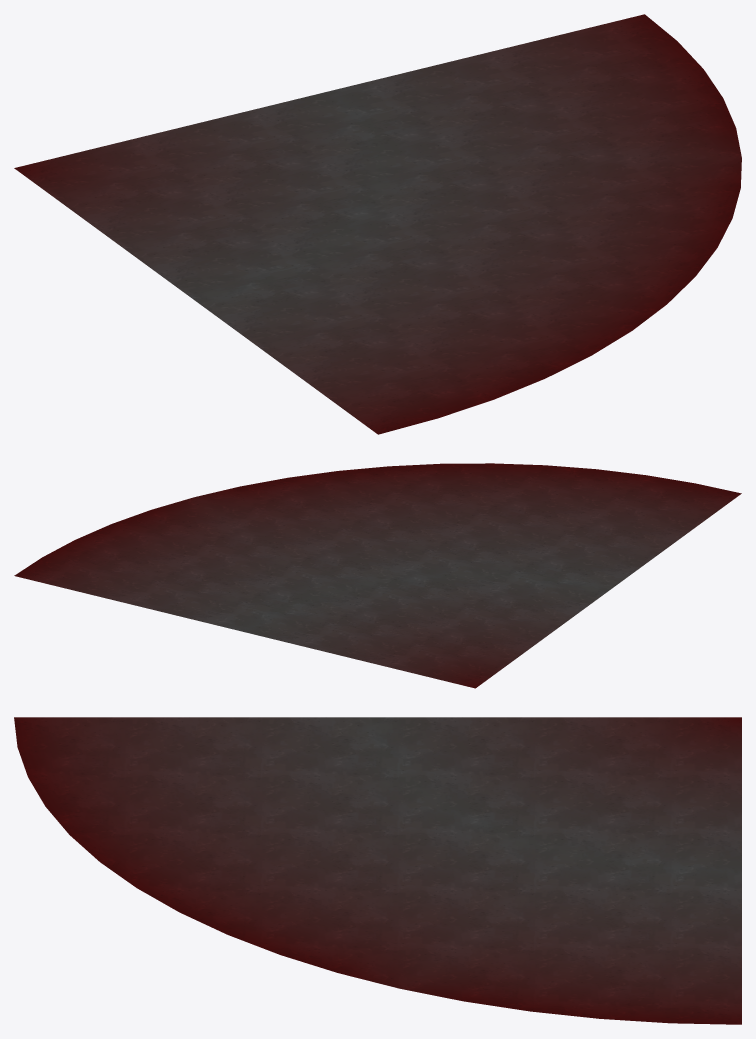
Rendered from q-downtown-street-asphalt-curve-4lane-short.glb.
3 renders of one model, top to bottom at view 1: azimuth 30°, elevation 25°; view 2: azimuth 150°, elevation 25°; view 3: azimuth 270°, elevation 25°, orthographic. The views are drawn at different scales.
Visible parts, largest first — view 1: Street_Asphalt_Curve_4Lane_Short; view 2: Street_Asphalt_Curve_4Lane_Short; view 3: Street_Asphalt_Curve_4Lane_Short.
Boxes of the visible parts, box(x1,y1,x2,y2) form: Street_Asphalt_Curve_4Lane_Short: box(14, 14, 741, 434); Street_Asphalt_Curve_4Lane_Short: box(14, 463, 741, 688); Street_Asphalt_Curve_4Lane_Short: box(14, 717, 741, 1024).
Size of the model in its own units: 16 by 0 by 16.
Materials: 1 (1 with a texture image).
